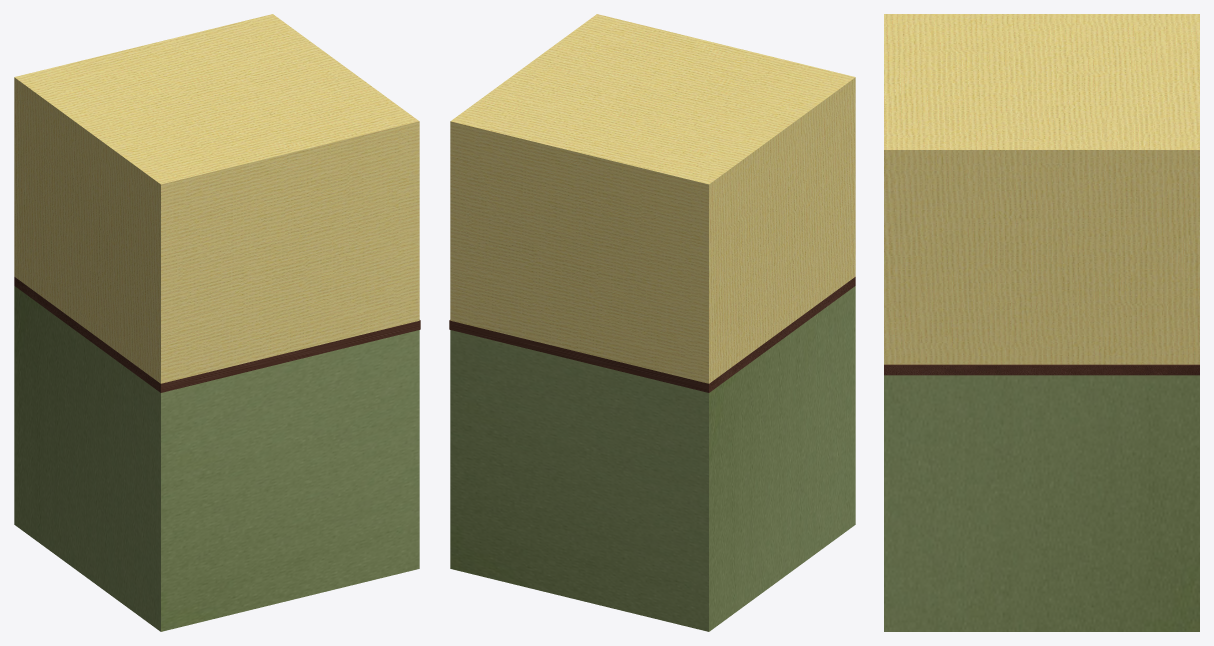
Rendered from tembok.fbx.
The picture shows the model from 3 angles, left to right: view 1: azimuth 30°, elevation 25°; view 2: azimuth 150°, elevation 25°; view 3: azimuth 270°, elevation 25°; orthographic projection. The views are drawn at different scales.
Parts seen in each view (by area): view 1: Cube.001; view 2: Cube.001; view 3: Cube.001.
Part boxes in pixels (x1,y1,x2,y2): Cube.001: (14, 14, 420, 631); Cube.001: (449, 14, 855, 631); Cube.001: (884, 14, 1199, 631).
Bounding box in the file's own units: 943 × 1552 × 922.
1 material, 1 textured.
